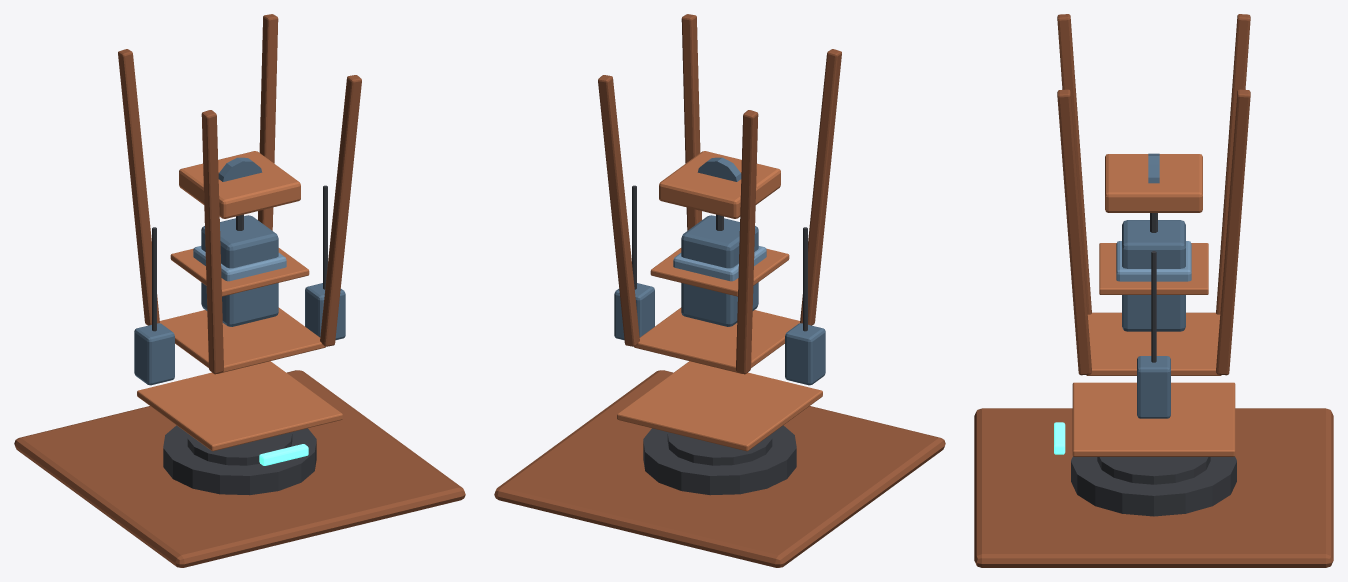
The model's file is sod_seismic_charge.glb.
3 views of the same model, side by side, from view 1: azimuth 30°, elevation 25°; view 2: azimuth 150°, elevation 25°; view 3: azimuth 270°, elevation 25° (orthographic). The views are drawn at different scales.
Parts seen in each view (by area): view 1: sod_seismic_charge; view 2: sod_seismic_charge; view 3: sod_seismic_charge.
Part boxes in pixels (box(x1,y1,x2,y2)): sod_seismic_charge: box(14, 14, 465, 567); sod_seismic_charge: box(494, 14, 945, 567); sod_seismic_charge: box(974, 14, 1333, 567).
Bounding box in the file's own units: 1.9 × 2.58 × 1.9.
